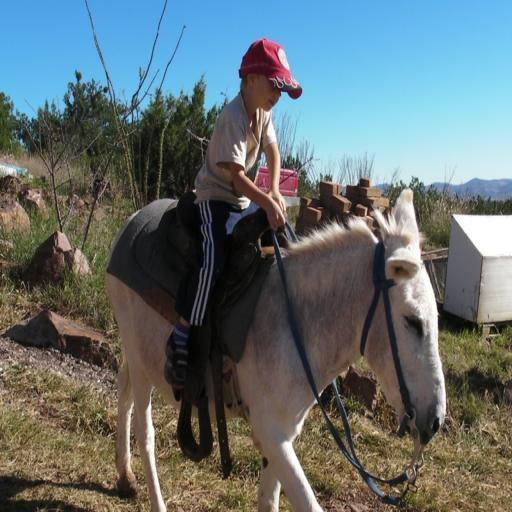horse: (104, 188, 449, 512)
